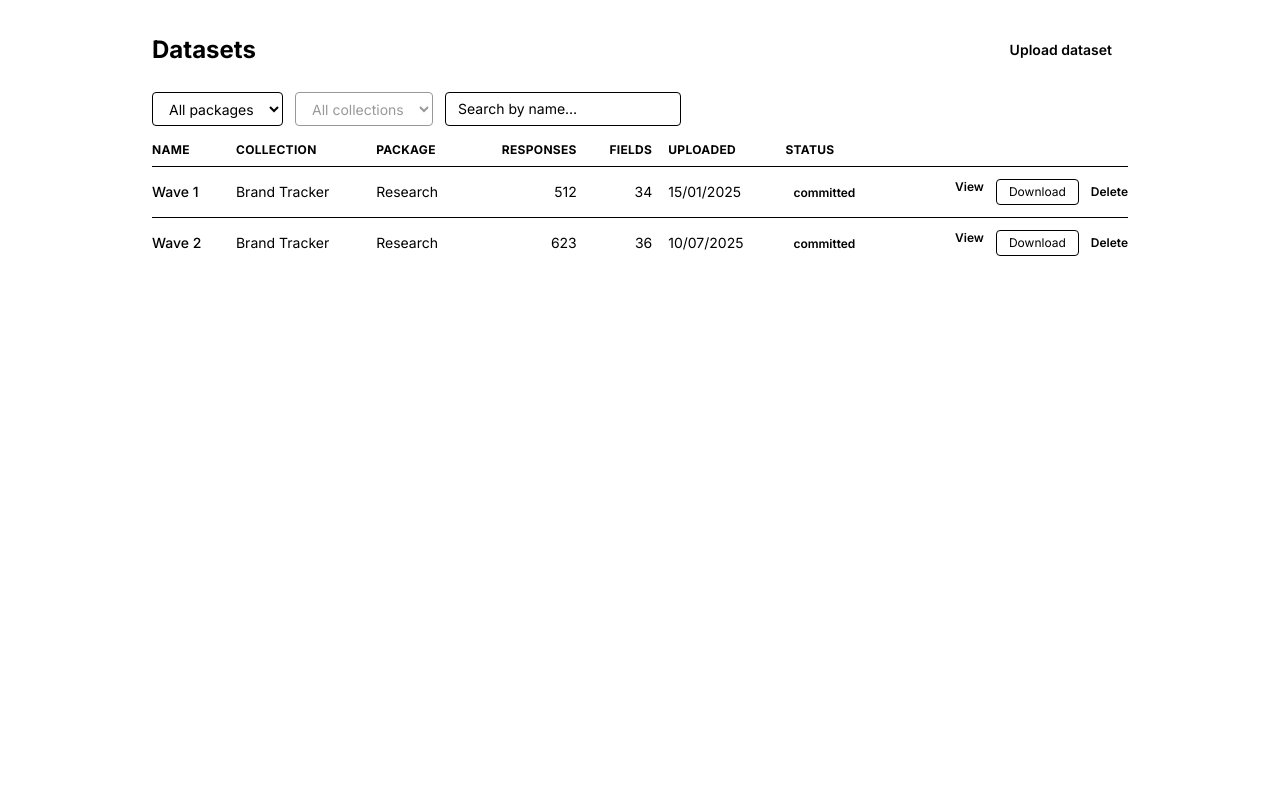
Scenario: cancels delete dialog without removing dataset
Click the button "Delete" in the row of "Wave 1".
click(1109, 192)  # box [1091,179,1128,205]
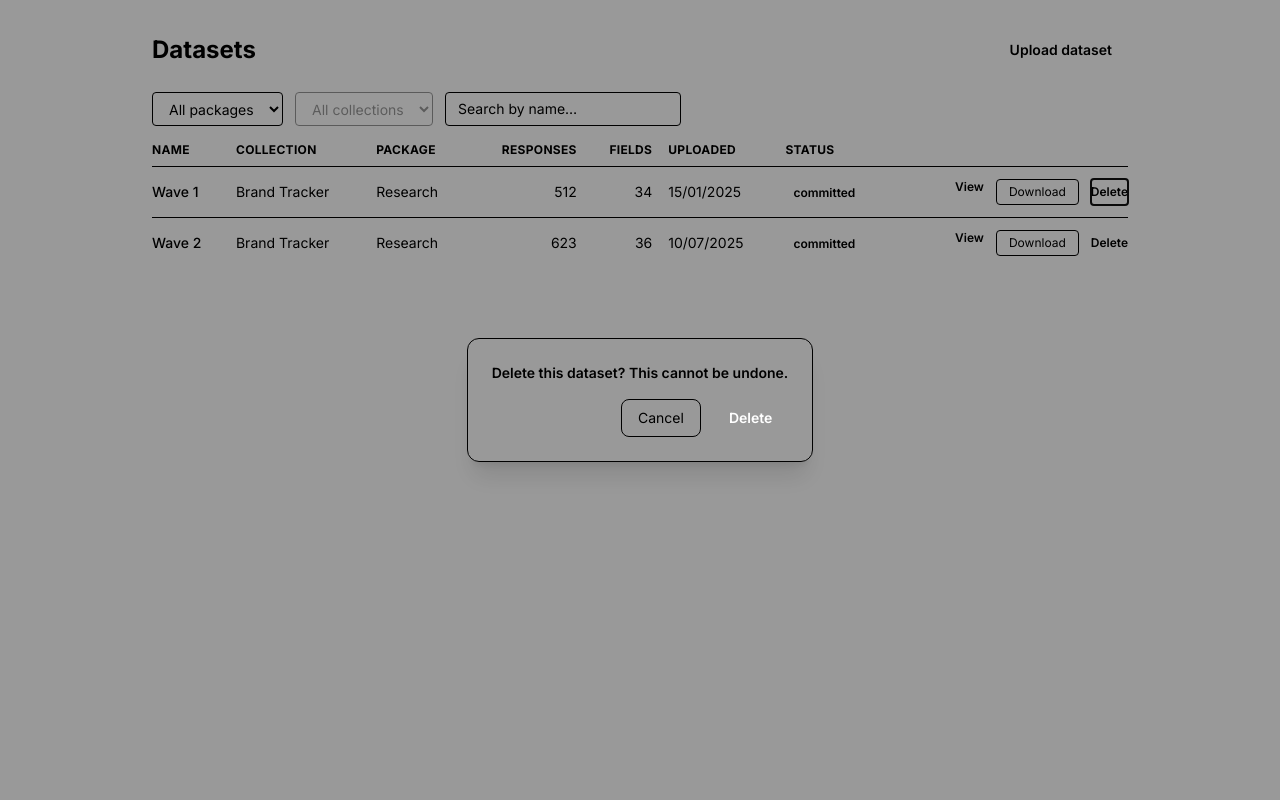
Click the button "Cancel".
click(661, 418)  # box [621,399,701,437]
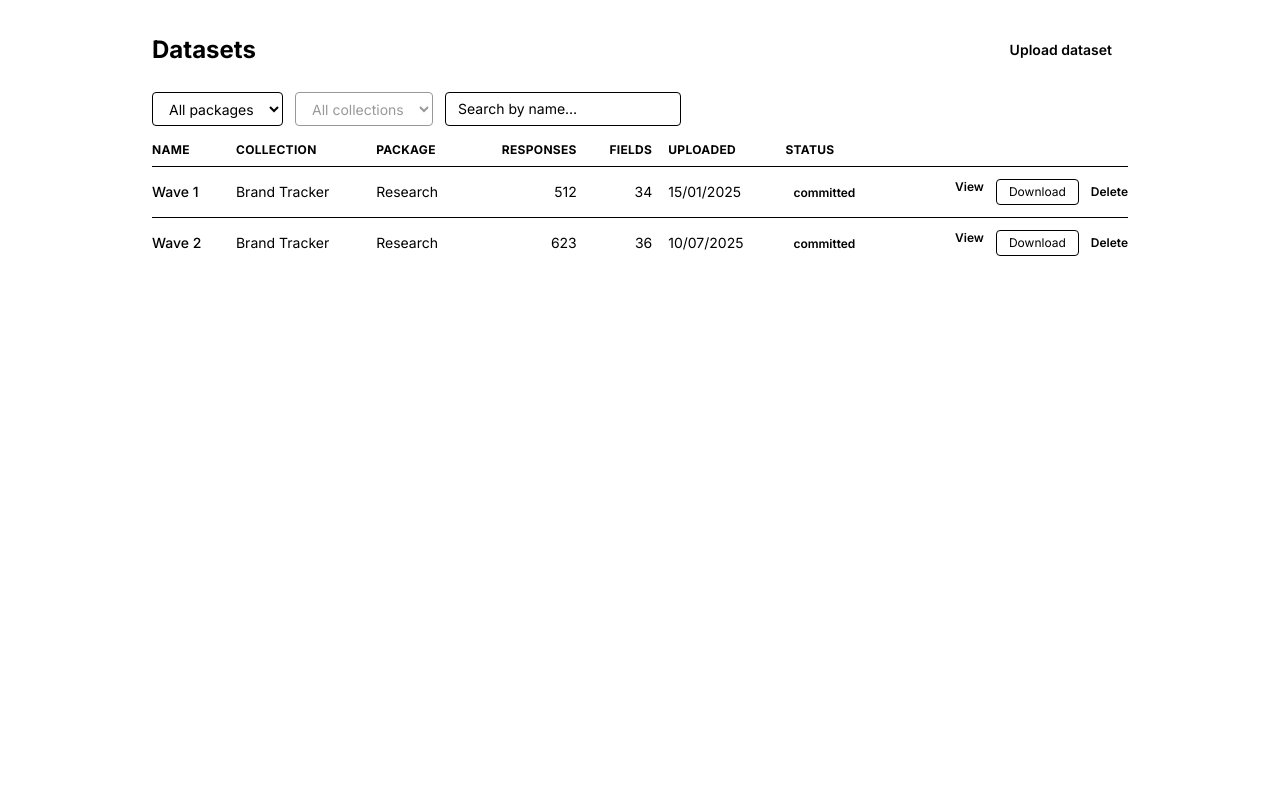
Check: the text "Wave 1" is shown, box [152,166,236,218]
Check: the text "Delete this dataset? This cannot be undone." is gone
